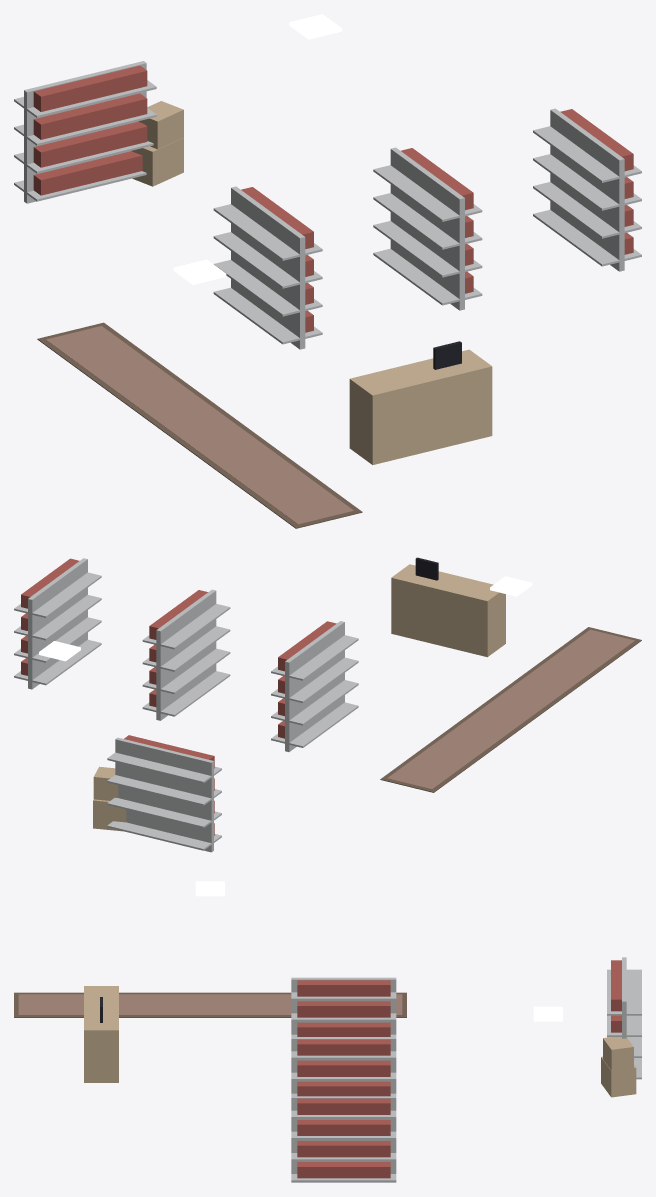
The model's file is fine-s0.glb.
The picture shows the model from 3 angles, top to bottom: view 1: azimuth 30°, elevation 25°; view 2: azimuth 150°, elevation 25°; view 3: azimuth 270°, elevation 25°; orthographic projection. The views are drawn at different scales.
Visible parts, largest first — view 1: soft-s0, shelving.000, shop-counter.000, shelf.001, shelf.002, shelf.000, cardboard-box.000, ceiling-lamp.000, ceiling-lamp.001; view 2: soft-s0, shelving.000, shop-counter.000, shelf.001, shelf.000, shelf.002, cardboard-box.000, ceiling-lamp.000, ceiling-lamp.001; view 3: shelf.002, soft-s0, shelf.000, shelf.001, shop-counter.000, shelving.000, cardboard-box.000, ceiling-lamp.000, ceiling-lamp.001.
Part boxes in pixels (x1=…): soft-s0: x1=37, y1=322, x2=362, y2=528; shelving.000: x1=14, y1=61, x2=156, y2=203; shop-counter.000: x1=349, y1=341, x2=492, y2=464; shelf.001: x1=373, y1=147, x2=482, y2=310; shelf.002: x1=533, y1=108, x2=641, y2=271; shelf.000: x1=213, y1=186, x2=322, y2=349; cardboard-box.000: x1=131, y1=101, x2=183, y2=186; ceiling-lamp.000: x1=173, y1=259, x2=226, y2=284; ceiling-lamp.001: x1=289, y1=14, x2=341, y2=39; soft-s0: x1=380, y1=627, x2=641, y2=792; shelving.000: x1=107, y1=735, x2=221, y2=852; shop-counter.000: x1=391, y1=557, x2=505, y2=657; shelf.001: x1=142, y1=589, x2=230, y2=720; shelf.000: x1=271, y1=621, x2=358, y2=751; shelf.002: x1=14, y1=558, x2=101, y2=689; cardboard-box.000: x1=93, y1=766, x2=126, y2=831; ceiling-lamp.000: x1=490, y1=576, x2=532, y2=596; ceiling-lamp.001: x1=39, y1=641, x2=80, y2=661; shelf.002: x1=291, y1=1096, x2=396, y2=1182; soft-s0: x1=14, y1=992, x2=406, y2=1017; shelf.000: x1=291, y1=977, x2=396, y2=1036; shelf.001: x1=291, y1=1037, x2=396, y2=1096; shop-counter.000: x1=84, y1=986, x2=118, y2=1082; shelving.000: x1=607, y1=957, x2=641, y2=1079; cardboard-box.000: x1=601, y1=1037, x2=636, y2=1097; ceiling-lamp.000: x1=195, y1=881, x2=224, y2=896; ceiling-lamp.001: x1=533, y1=1006, x2=562, y2=1021.
Size of the model in its own units: 7.94 by 2.24 by 10.76.
